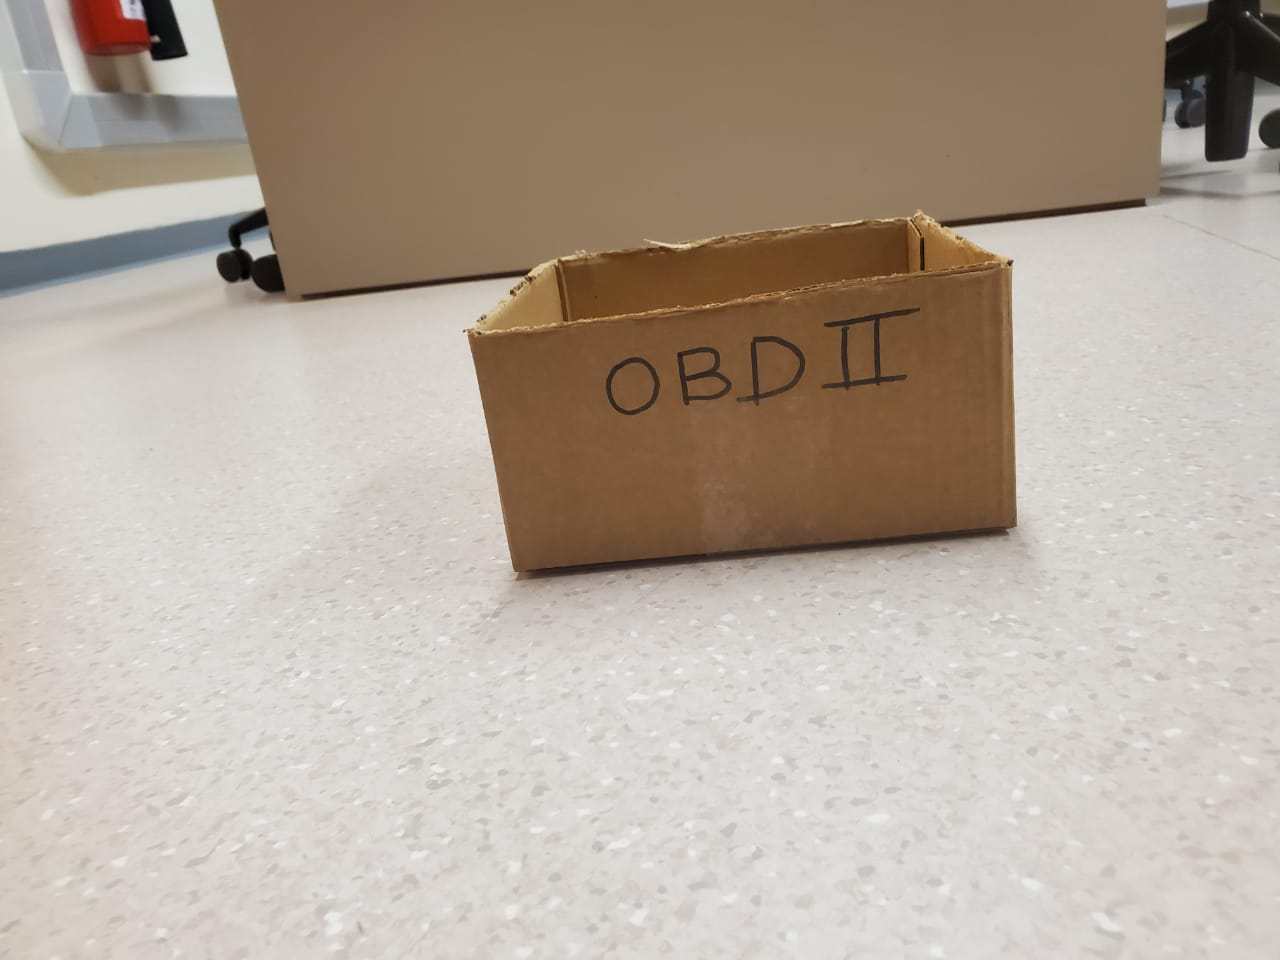CBox: (460, 203, 1067, 592)
